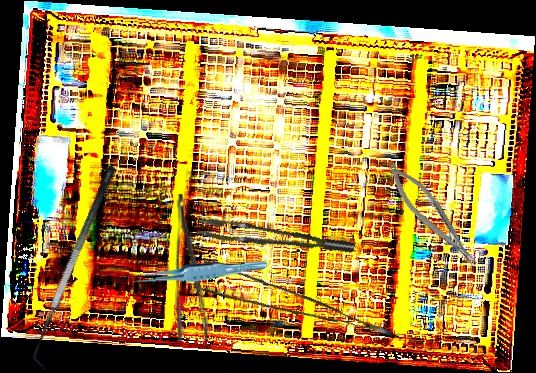Dressing Forceps: (175, 194, 210, 342)
Needle Holder: (380, 156, 484, 276)
Spatula Surgical: (21, 164, 133, 371)
Tissue Forceps: (193, 250, 394, 369), (195, 203, 356, 274), (129, 259, 268, 285)
